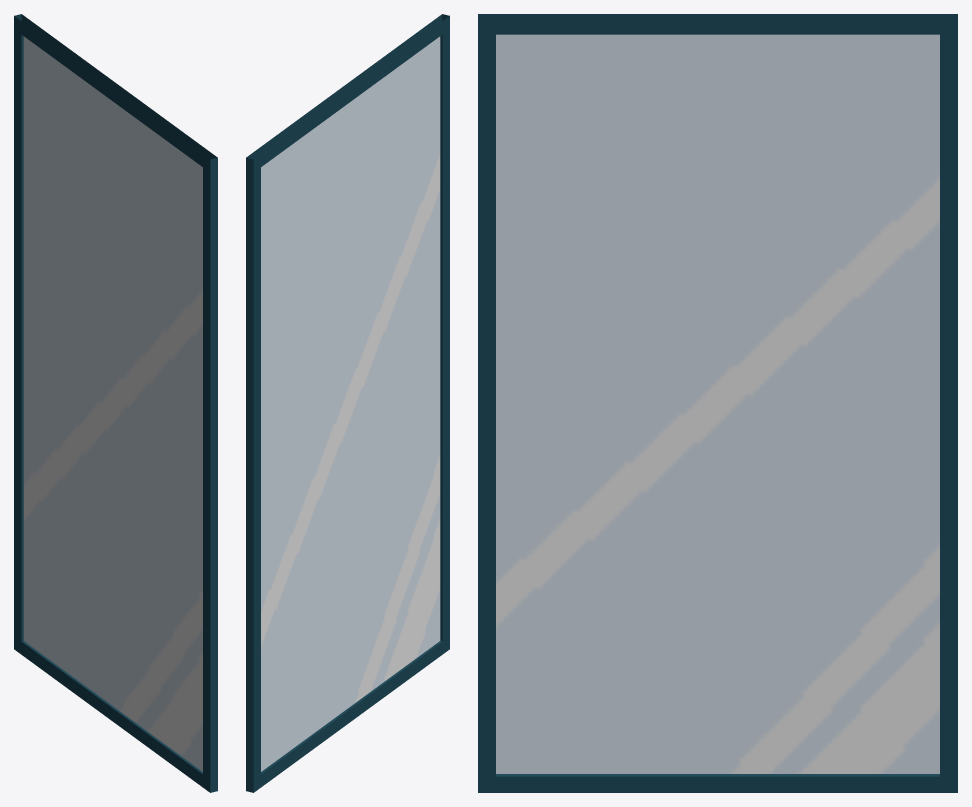
Rendered from Porte_Double_Vitree_Battant.FBX.
The picture shows the model from 3 angles, left to right: view 1: azimuth 30°, elevation 25°; view 2: azimuth 150°, elevation 25°; view 3: azimuth 270°, elevation 25°; orthographic projection. The views are drawn at different scales.
Parts seen in each view (by area): view 1: Porte_Double_Vitree_Battant; view 2: Porte_Double_Vitree_Battant; view 3: Porte_Double_Vitree_Battant.
Part boxes in pixels (left/top/right/bottom): Porte_Double_Vitree_Battant: left=14, top=14, right=217, bottom=792; Porte_Double_Vitree_Battant: left=246, top=14, right=449, bottom=792; Porte_Double_Vitree_Battant: left=478, top=14, right=957, bottom=792.
Size of the model in its own units: 0.0274 by 2.18 by 1.22.
